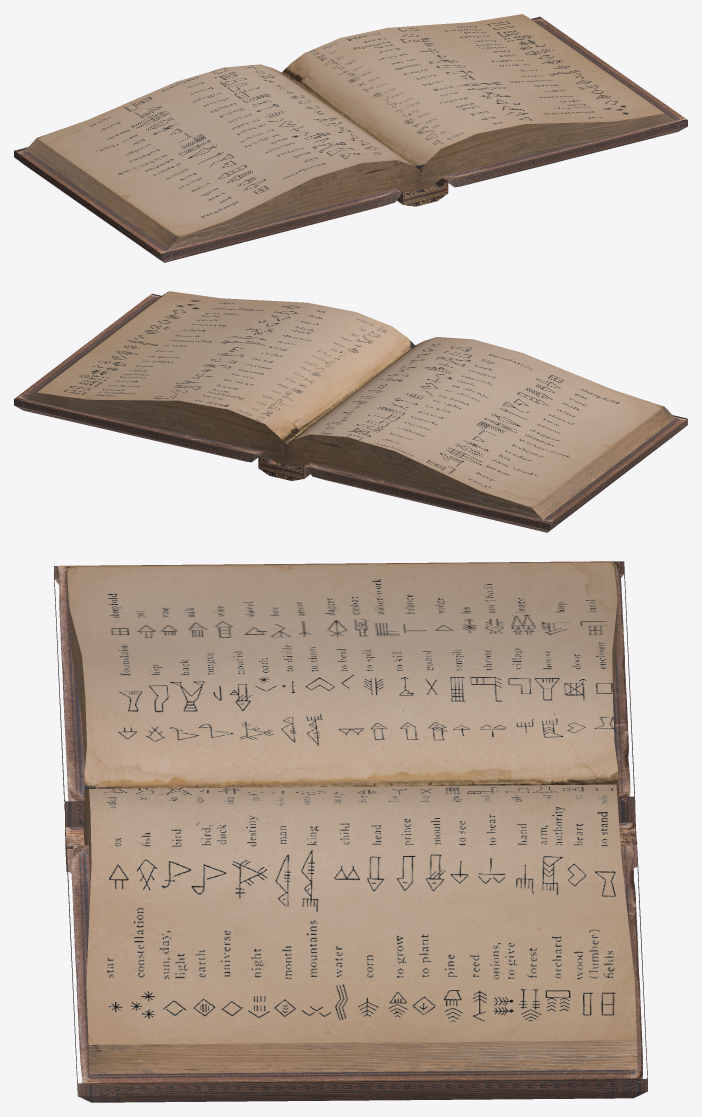
File: Book.fbx
3 views of the same model, one above another, from view 1: azimuth 30°, elevation 25°; view 2: azimuth 150°, elevation 25°; view 3: azimuth 270°, elevation 25° (orthographic). The views are drawn at different scales.
Visible parts, largest first — view 1: Book_Open; view 2: Book_Open; view 3: Book_Open.
Part boxes in pixels (bbox=[...]): Book_Open: bbox=[14, 14, 687, 262]; Book_Open: bbox=[14, 291, 687, 532]; Book_Open: bbox=[54, 561, 647, 1102].
Bounding box in the file's own units: 52.54 × 4.86 × 25.25.
